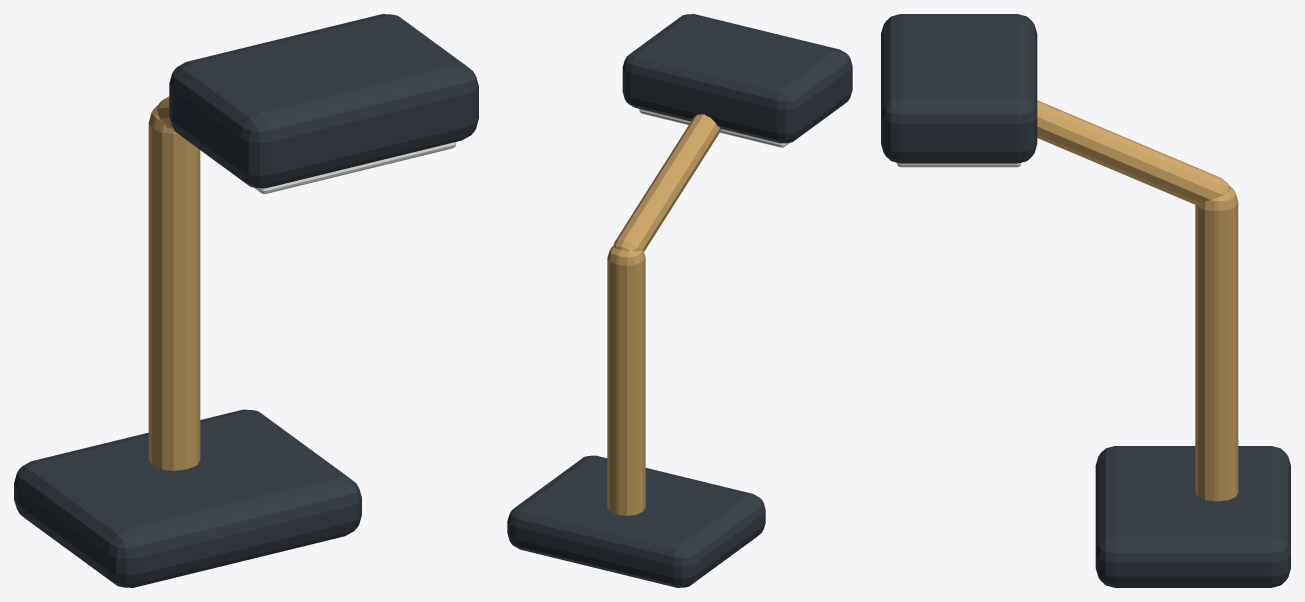
File: inspection-lamp.glb
3 views of the same model, side by side, from view 1: azimuth 30°, elevation 25°; view 2: azimuth 150°, elevation 25°; view 3: azimuth 270°, elevation 25° (orthographic). The views are drawn at different scales.
Parts seen in each view (by area): view 1: Lamp base, Light hood, Lower arm, Diffuser; view 2: Lamp base, Light hood, Lower arm, Upper arm, Diffuser; view 3: Lamp base, Light hood, Lower arm, Upper arm, Diffuser.
Boxes of the visible parts, x1,y1,x2,y2 form: Lamp base: [14, 409, 361, 587]; Light hood: [169, 14, 478, 188]; Lower arm: [148, 105, 200, 470]; Diffuser: [253, 142, 456, 193]; Lamp base: [507, 455, 765, 587]; Light hood: [622, 14, 852, 143]; Lower arm: [607, 246, 645, 515]; Upper arm: [613, 114, 721, 251]; Diffuser: [639, 109, 789, 147]; Lamp base: [1095, 446, 1290, 587]; Light hood: [881, 14, 1037, 163]; Lower arm: [1195, 186, 1238, 501]; Upper arm: [1037, 100, 1230, 205]; Diffuser: [897, 162, 1021, 167].
Size of the model in its own units: 0.32 by 0.685 by 0.525.
